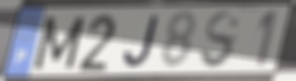1: (253, 8, 279, 71)
2: (77, 11, 119, 74)
8: (157, 10, 200, 73)
J: (121, 14, 162, 70)
M: (30, 15, 88, 72)
S: (198, 10, 243, 72)
